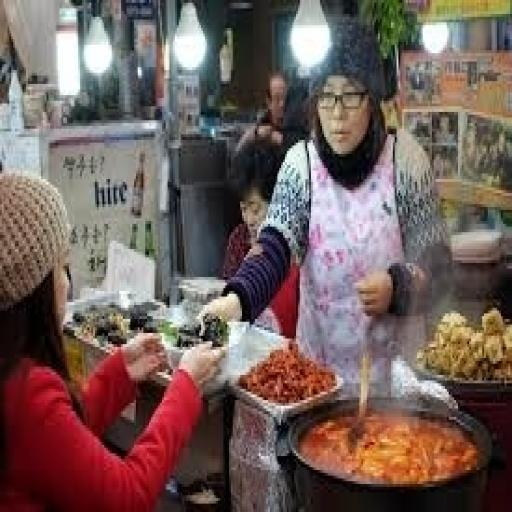eating: (198, 17, 452, 394), (0, 167, 225, 509)
